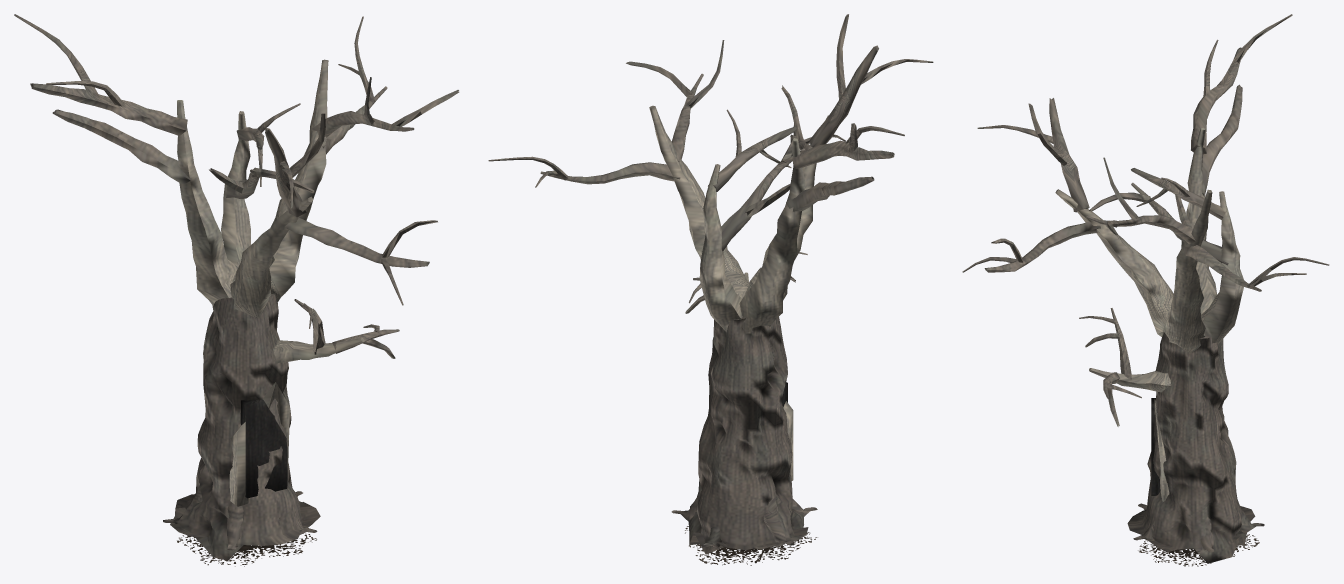
Rendered from tree_hollow_elm.glb.
3 views of the same model, side by side, from view 1: azimuth 30°, elevation 25°; view 2: azimuth 150°, elevation 25°; view 3: azimuth 270°, elevation 25° (orthographic). The views are drawn at different scales.
Parts seen in each view (by area): view 1: tree_hollow_elm; view 2: tree_hollow_elm; view 3: tree_hollow_elm.
Part boxes in pixels (x1,y1,x2,y2): tree_hollow_elm: [14, 14, 459, 566]; tree_hollow_elm: [488, 14, 933, 565]; tree_hollow_elm: [962, 14, 1329, 566].
Bounding box in the file's own units: 3.03 × 3.96 × 2.9.
Materials: 2 (2 with a texture image).
